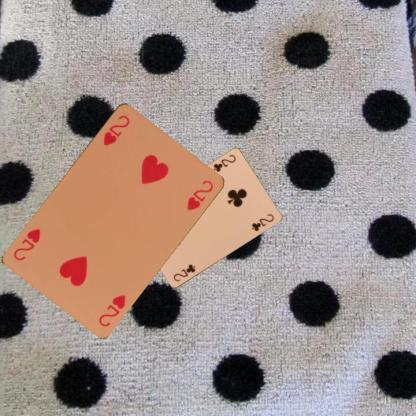2c: (170, 262, 196, 283), (211, 152, 237, 173)
2h: (96, 292, 127, 328), (100, 112, 131, 147)
